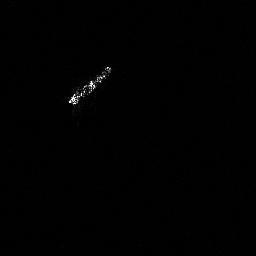ship: (63, 62, 115, 108)
